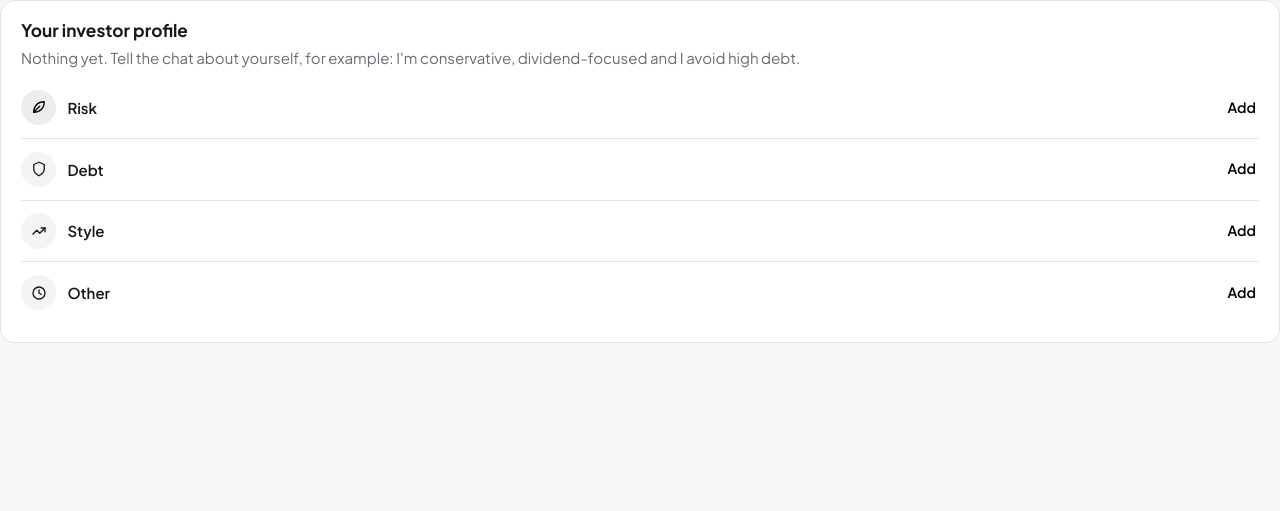
Test: the memory panel › shows a short message when a choice is not accepted
Click the button with aria-label "Add Risk".
click(1242, 108)  # box [1224,95,1259,120]
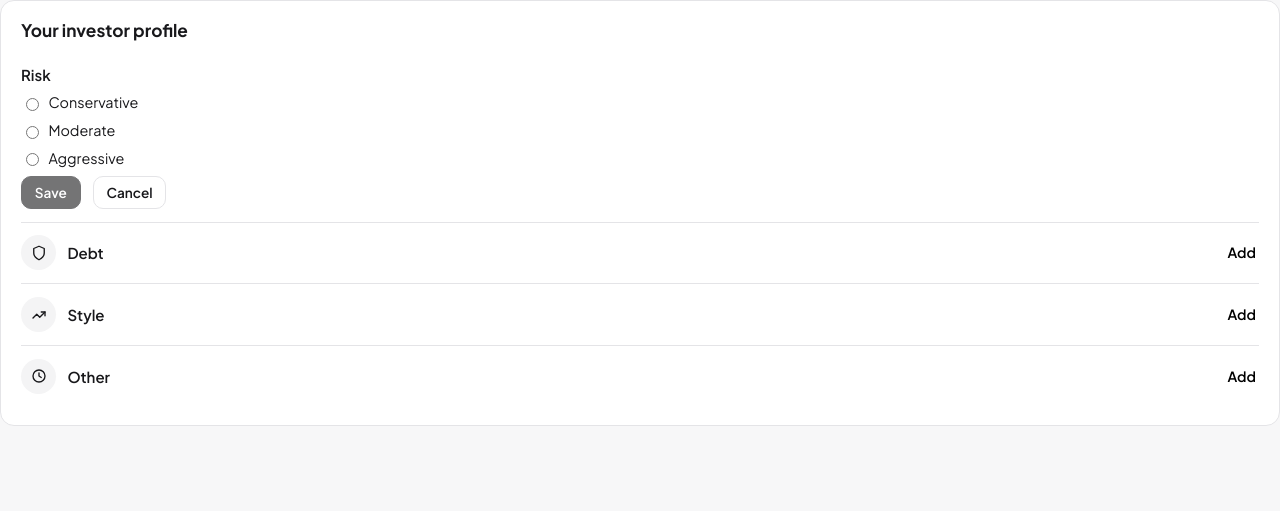
Click the radio button labelled "Moderate".
click(32, 132)  # box [26,126,39,139]
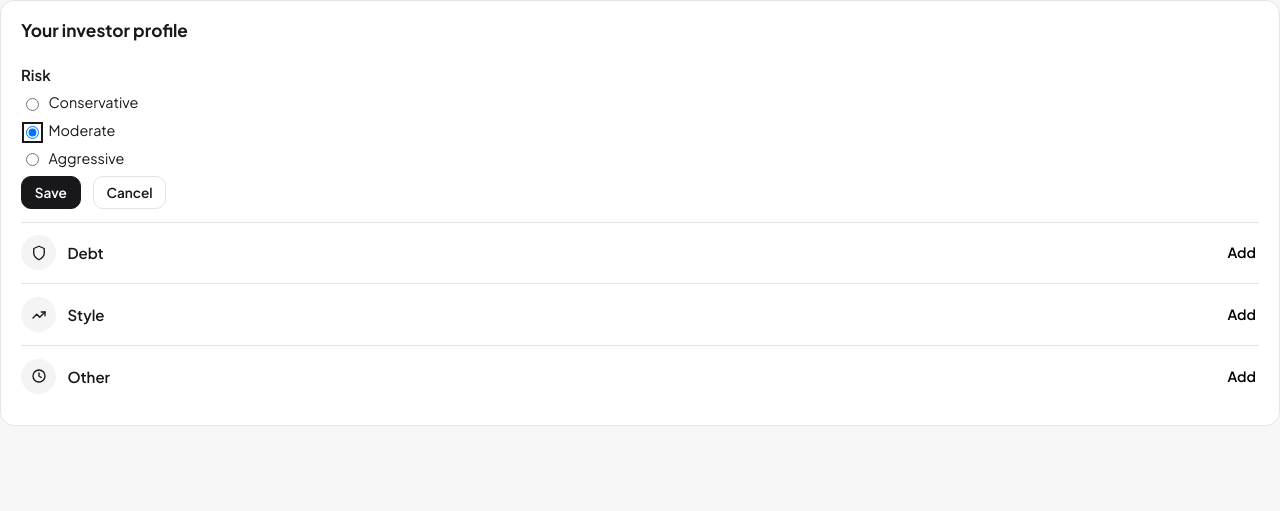
Click the button with aria-label "Save Risk".
click(51, 192)  # box [21,176,81,209]
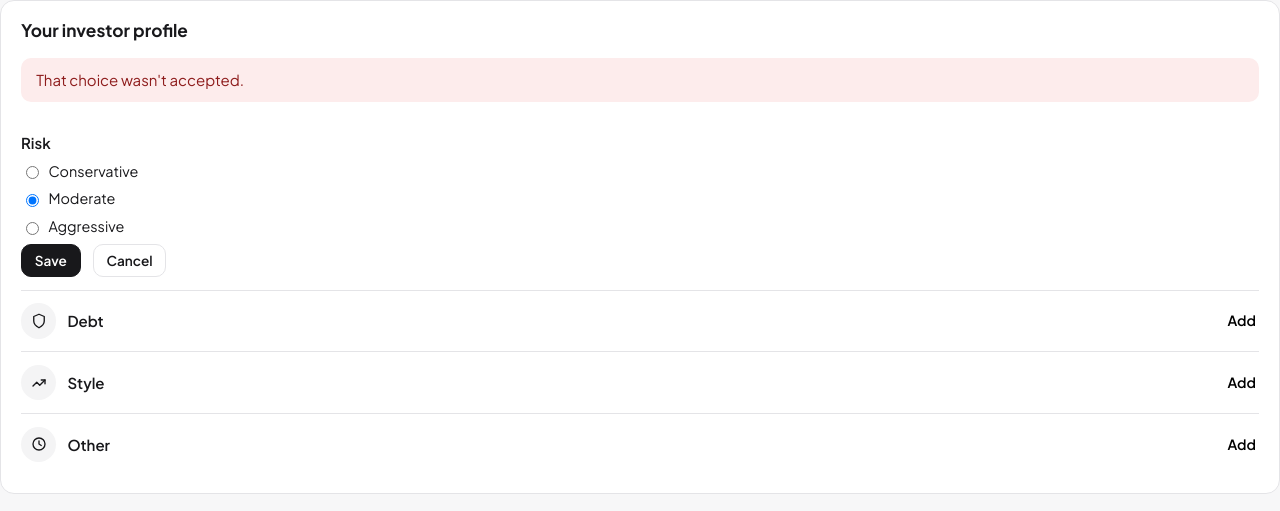
Expected: the message reads "That choice wasn't accepted.", [36,70,244,89]
